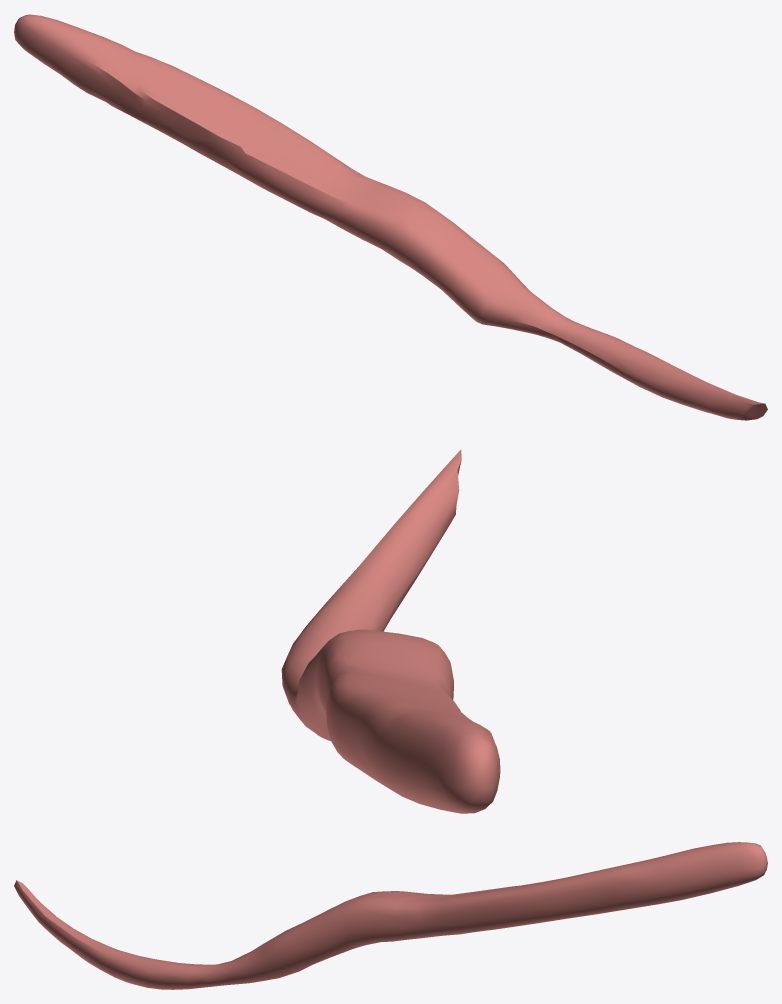
The model's file is fma37743_mm1748m.glb.
The picture shows the model from 3 angles, top to bottom: view 1: azimuth 90°, elevation 25°; view 2: azimuth 210°, elevation 25°; view 3: azimuth 270°, elevation 25°; orthographic projection. The views are drawn at different scales.
Parts seen in each view (by area): view 1: FMA37743_MM1748M; view 2: FMA37743_MM1748M; view 3: FMA37743_MM1748M.
Part boxes in pixels (bbox=[...]): FMA37743_MM1748M: bbox=[14, 14, 767, 420]; FMA37743_MM1748M: bbox=[281, 450, 500, 813]; FMA37743_MM1748M: bbox=[14, 842, 767, 989].
Size of the model in its own units: 0.0288 by 0.0187 by 0.0501.
